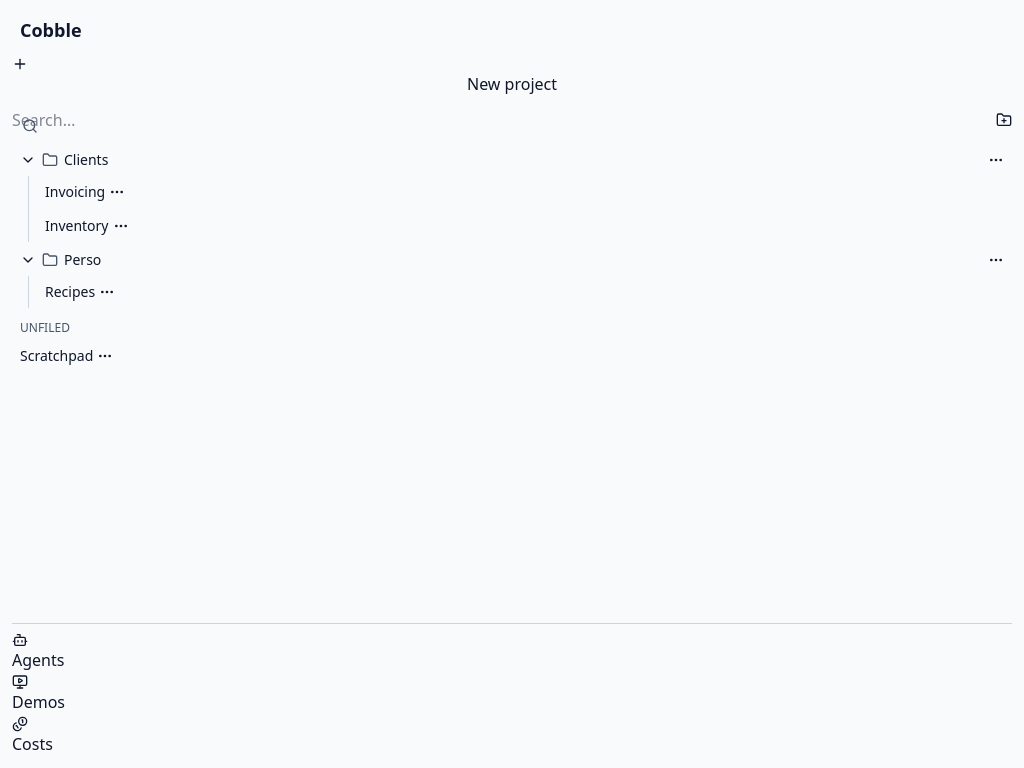
Sidebar › filters projects client-side and hides folders without a match
Type "inv" into the search field with test id "sidebar-search".
click(128, 120); type("inv")  # box [12,108,243,132]
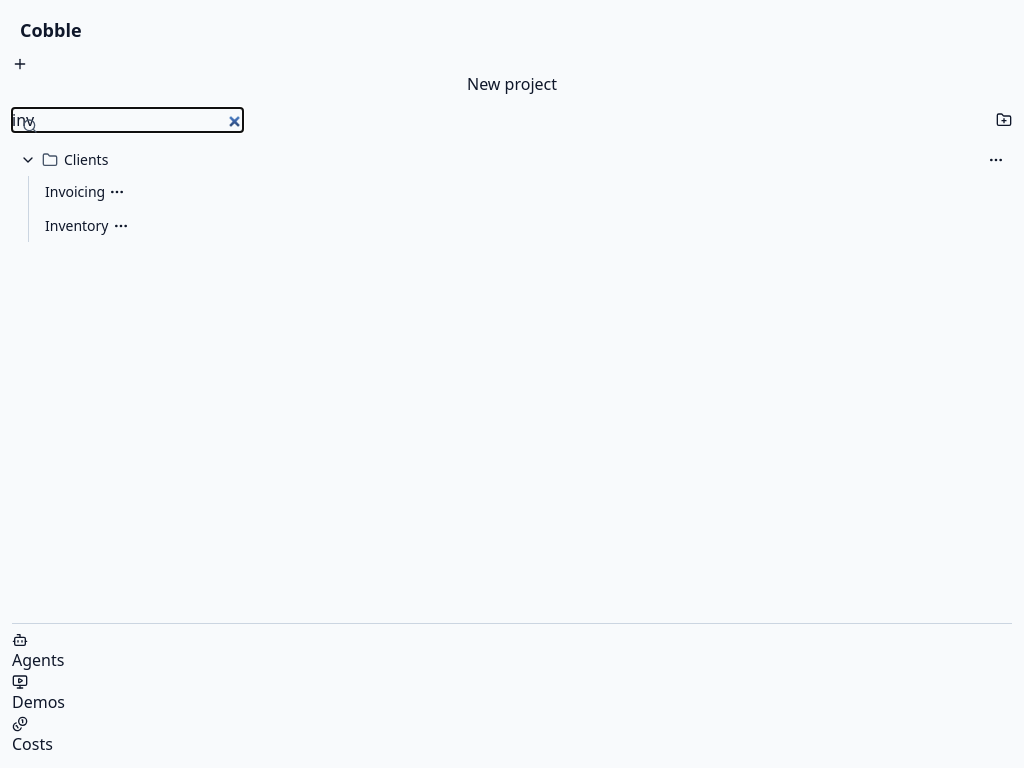
Check: the elements with test id "project-item" read "Invoicing", "Inventory", in this order, box [45,182,125,201]; [45,216,128,235]
Check: the number of list items with test id "folder-item" is 1, box [12,144,1012,242]
Check: the link "Recipes" is gone
Replace the text in the search field with test id "sidebar-search" with "zzz" at [128, 120], box [12,108,243,132]
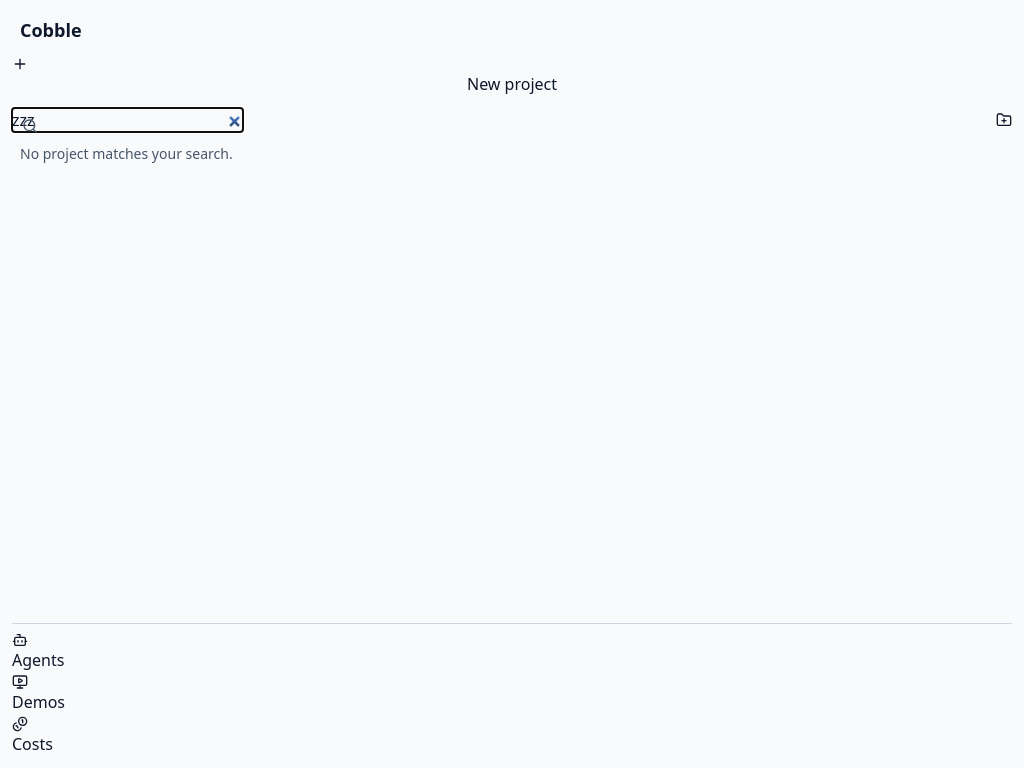
Check: the text "No project matches your search." is shown, box [20,144,233,163]
